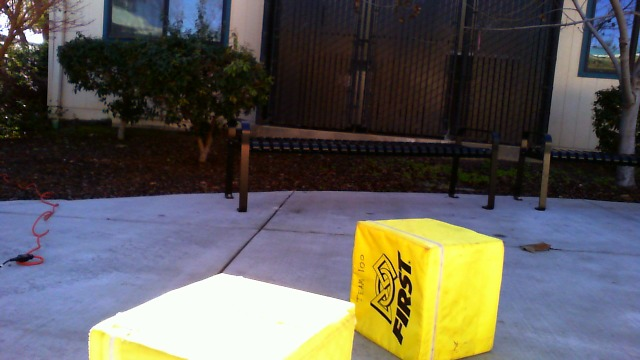cube: (85, 272, 355, 360), (348, 217, 500, 360)
